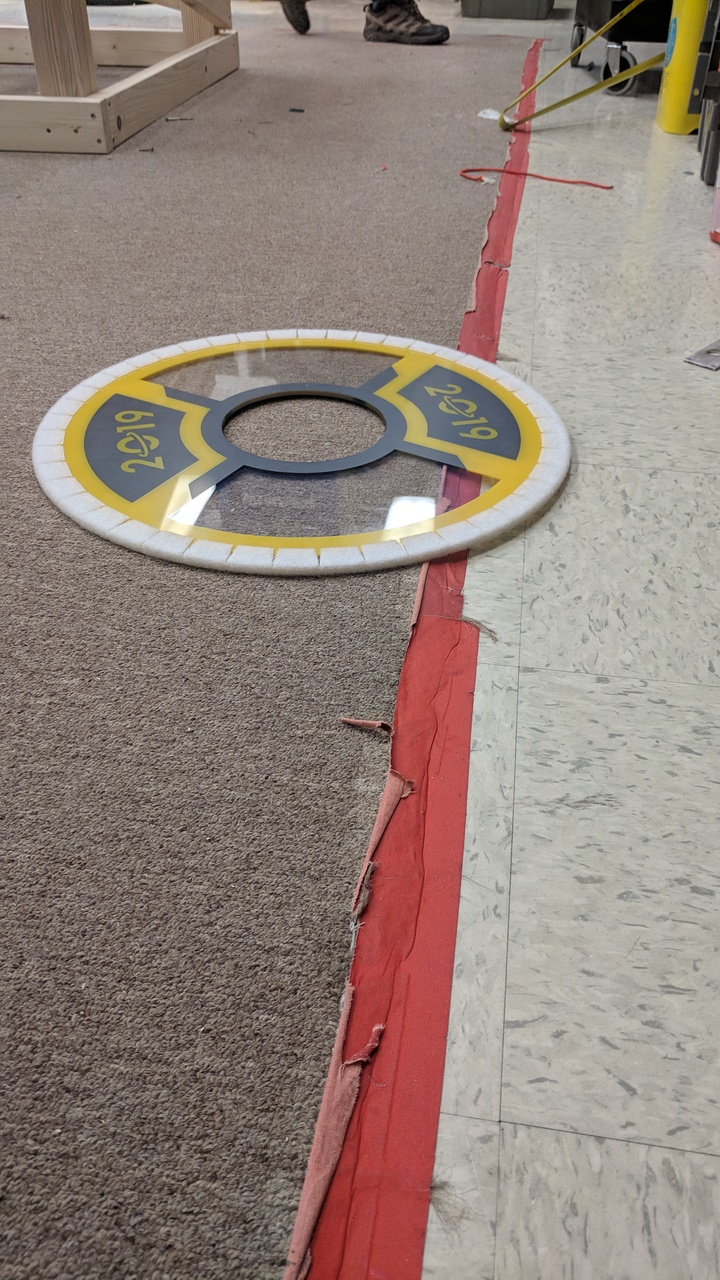hatch_panel: (27, 324, 592, 587)
